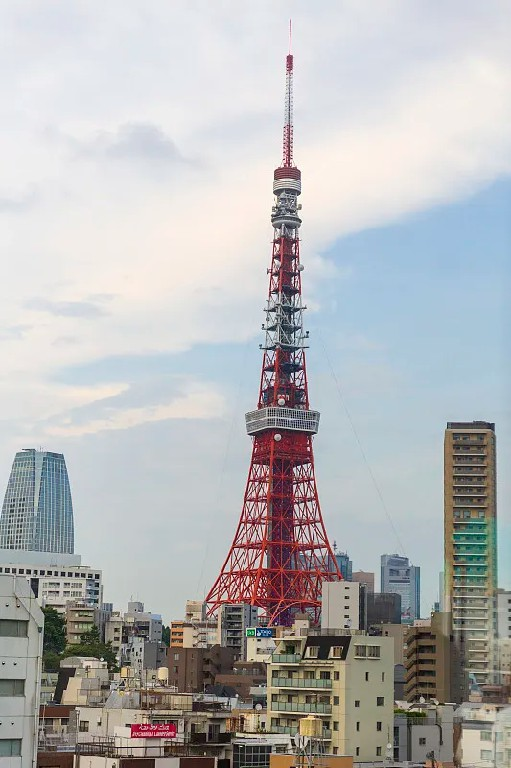Tokyo: (206, 14, 348, 624)
